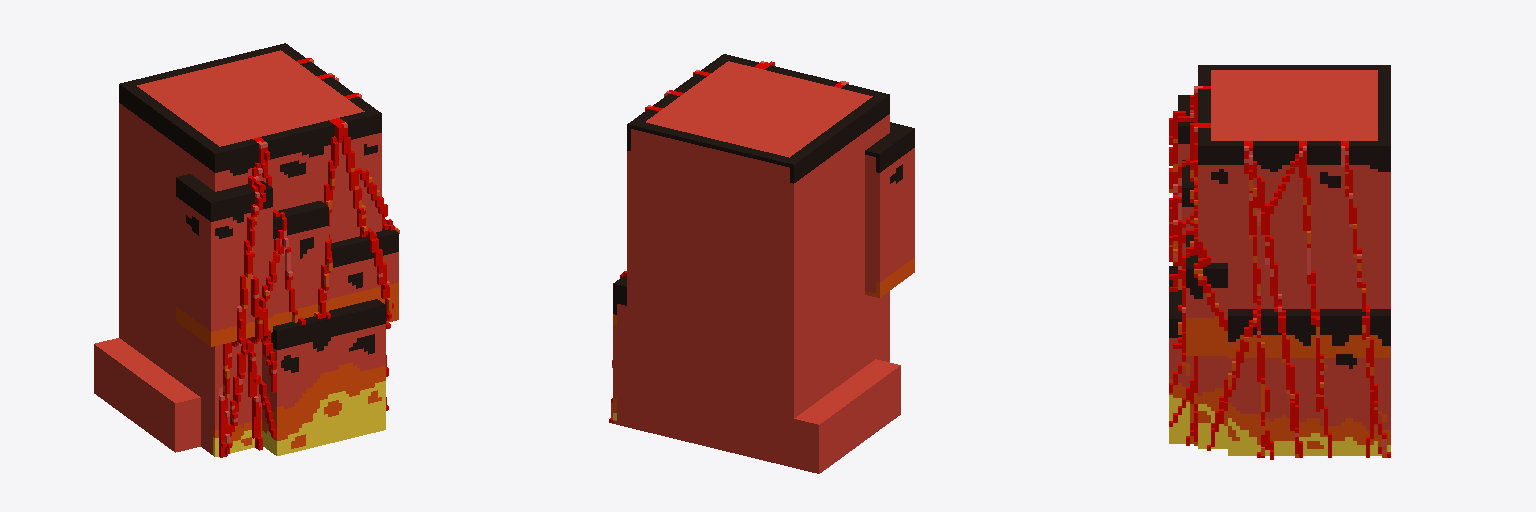
The picture shows the model from 3 angles: view 1: azimuth 30°, elevation 25°; view 2: azimuth 150°, elevation 25°; view 3: azimuth 270°, elevation 25°; orthographic projection.
Parts seen in each view (by area): view 1: object 1; view 2: object 1; view 3: object 1.
Boxes of the visible parts, x1=… form: object 1: x1=94, y1=43, x2=399, y2=457; object 1: x1=609, y1=54, x2=914, y2=473; object 1: x1=1169, y1=65, x2=1390, y2=459.
Bounding box in the file's own units: 5.9 × 8 × 5.3.
1 materials, 1 textured.